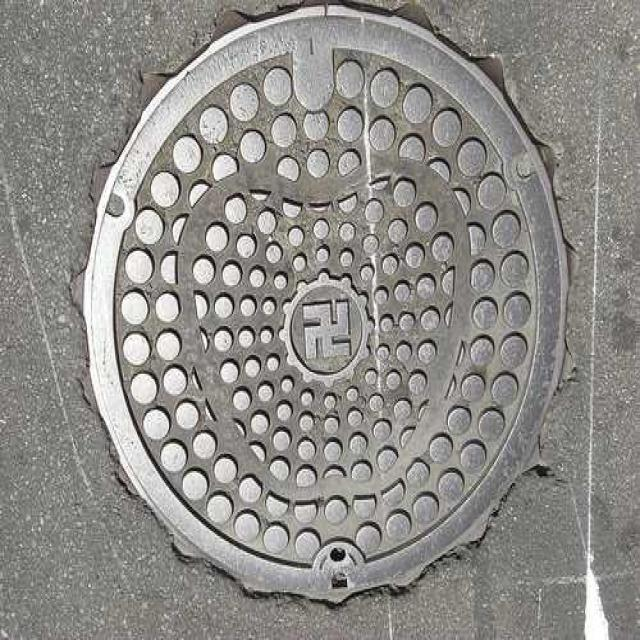manhole: (84, 5, 567, 601)
